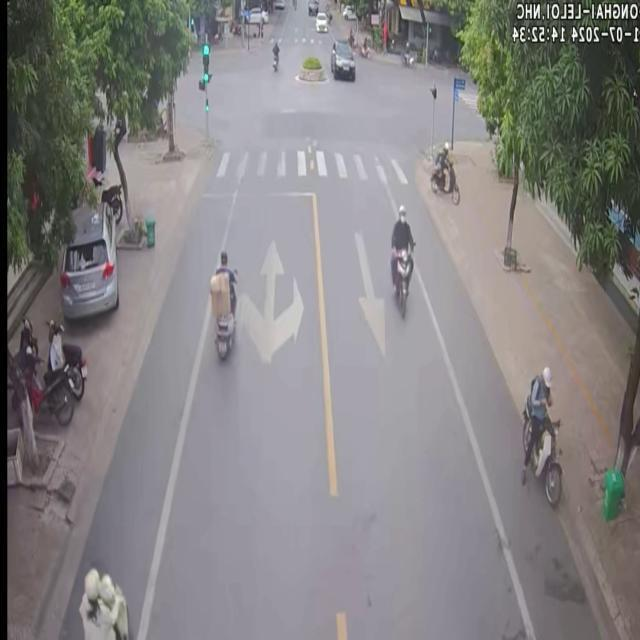car: (59, 200, 117, 318), (329, 38, 353, 79)
green_light: (202, 44, 209, 89)
motobike: (519, 365, 560, 505), (19, 347, 72, 424), (46, 318, 86, 398), (208, 249, 234, 358), (389, 202, 413, 316), (429, 147, 458, 202), (270, 38, 278, 69)
stop_line: (201, 191, 309, 197)
